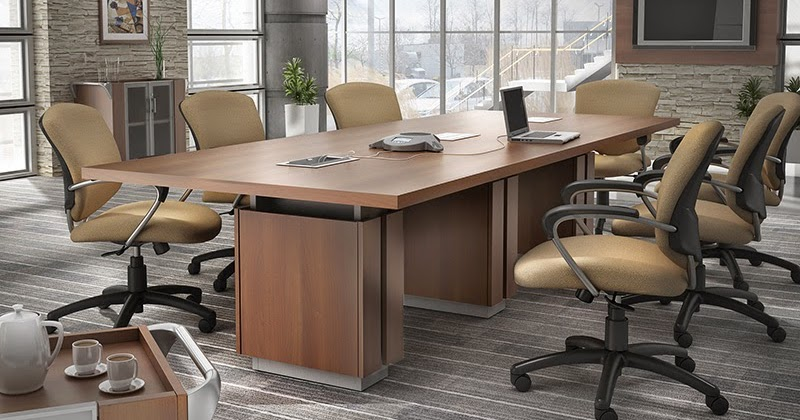conference_table: (81, 111, 680, 391)
